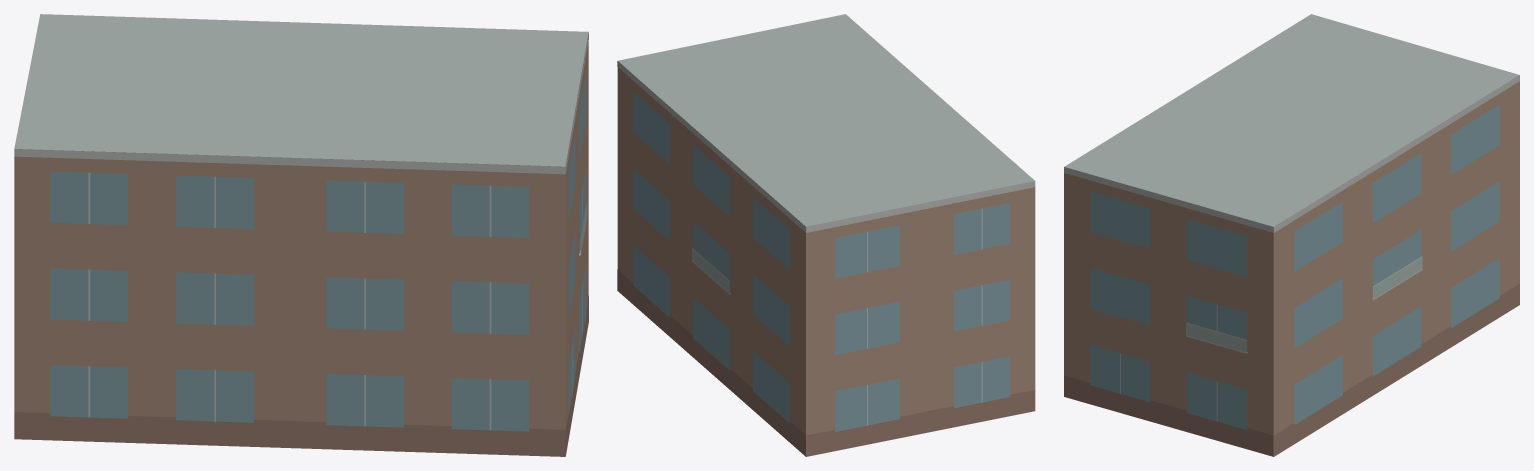
File: survey-upis-32707473.glb
3 renders of one model, left to right at view 1: azimuth 30°, elevation 25°; view 2: azimuth 150°, elevation 25°; view 3: azimuth 270°, elevation 25°, orthographic. The views are drawn at different scales.
Parts seen in each view (by area): view 1: survey-upis-32707473.tmp; view 2: survey-upis-32707473.tmp; view 3: survey-upis-32707473.tmp.
Part boxes in pixels (x1=…): survey-upis-32707473.tmp: x1=14, y1=14, x2=588, y2=456; survey-upis-32707473.tmp: x1=617, y1=14, x2=1035, y2=456; survey-upis-32707473.tmp: x1=1064, y1=14, x2=1519, y2=456.
Size of the model in its own units: 18.18 by 9.15 by 16.44.
